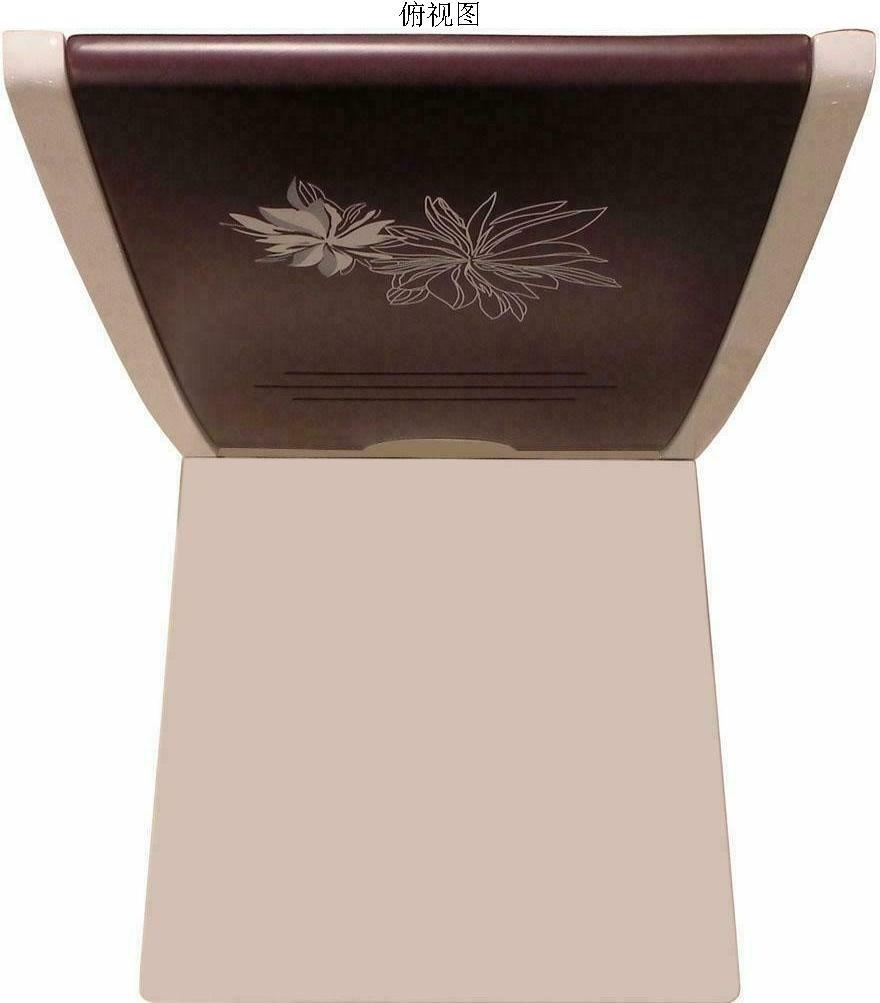obstacle: (4, 30, 873, 1002)
